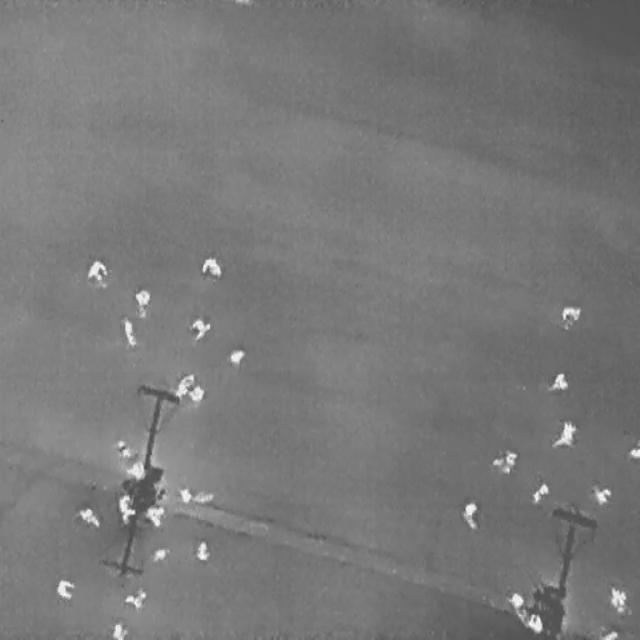Person: (551, 415, 578, 454), (117, 309, 139, 351), (169, 366, 196, 400), (113, 490, 137, 525), (74, 501, 103, 529), (187, 314, 210, 344), (86, 255, 108, 285), (527, 479, 551, 506), (148, 540, 171, 566), (53, 575, 76, 601), (461, 500, 479, 531), (607, 585, 626, 614), (490, 450, 516, 471), (200, 254, 222, 278), (591, 481, 612, 505), (175, 480, 194, 506), (144, 502, 163, 528), (123, 589, 146, 609), (133, 288, 149, 316), (547, 369, 567, 391), (112, 436, 130, 460), (225, 347, 245, 365), (109, 620, 128, 638), (125, 460, 143, 478), (194, 540, 210, 560), (561, 304, 581, 320), (507, 589, 523, 609), (527, 610, 542, 631), (188, 387, 204, 402), (627, 439, 639, 459), (600, 628, 617, 638)
